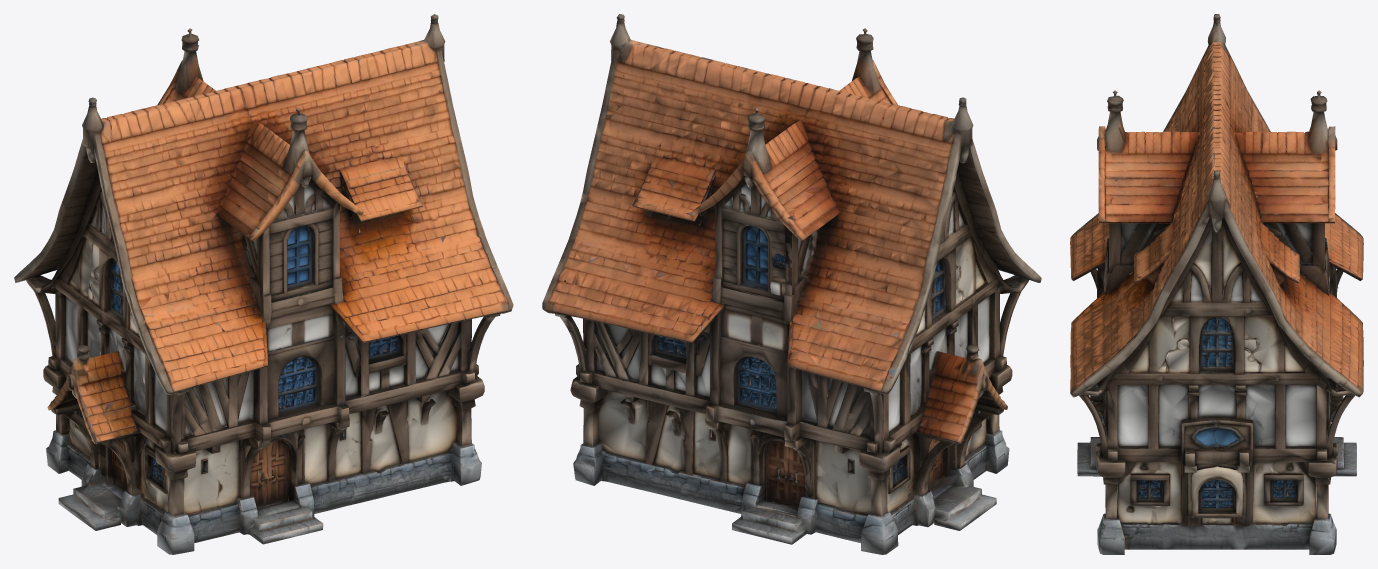
The model's file is Medieval_Cottage.glb.
3 views of the same model, side by side, from view 1: azimuth 30°, elevation 25°; view 2: azimuth 150°, elevation 25°; view 3: azimuth 270°, elevation 25° (orthographic). The views are drawn at different scales.
Parts seen in each view (by area): view 1: Medieval_Cottage; view 2: Medieval_Cottage; view 3: Medieval_Cottage.
Part boxes in pixels (x1,y1,x2,y2): Medieval_Cottage: [14, 14, 513, 554]; Medieval_Cottage: [542, 14, 1041, 554]; Medieval_Cottage: [1070, 14, 1363, 554].
Size of the model in its own units: 1.88 by 2 by 1.36.
1 material, 1 textured.
